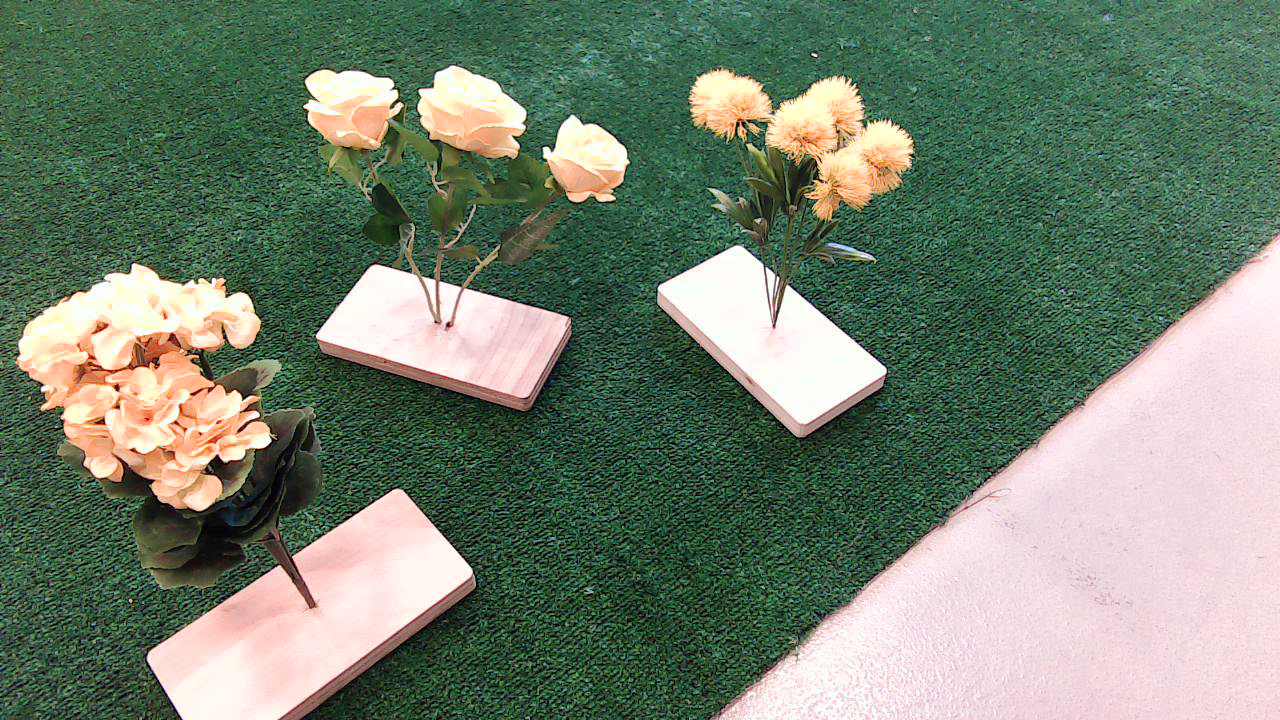dandelion: (676, 50, 937, 339)
geranium: (14, 263, 349, 664)
rose: (273, 45, 647, 299)
